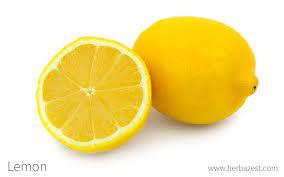lemon: (133, 15, 258, 124), (36, 36, 152, 153)
